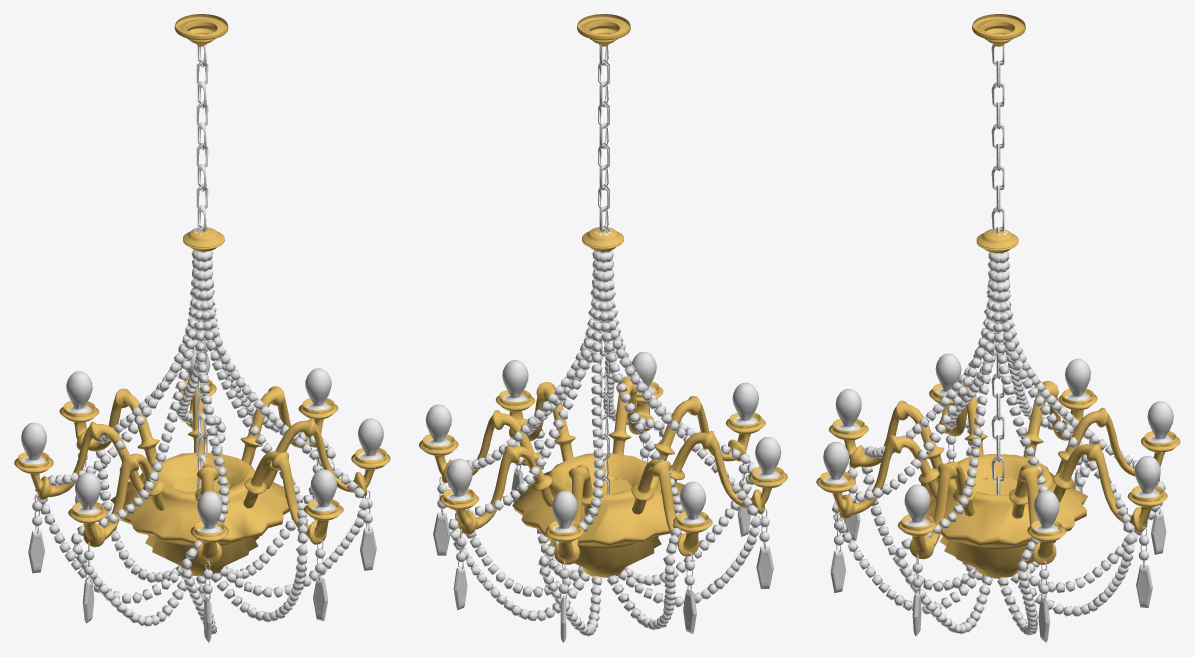
Rendered from şamdandamdanoptimopti.fbx.
3 renders of one model, left to right at view 1: azimuth 30°, elevation 25°; view 2: azimuth 150°, elevation 25°; view 3: azimuth 270°, elevation 25°, orthographic.
Parts seen in each view (by area): view 1: Plane.022, Cylinder.006, Cube.019, Cube.013, Cube.018, Cube.017, Cube.020, Circle.050, Cube.014, Cube.016, Cylinder.008, Cube.015 (+3 smaller); view 2: Plane.022, Cylinder.006, Cube.019, Cube.015, Cube.017, Cube.016, Cube.014, Cube.020, Circle.050, Cylinder.008, Cube.013, Cube.018 (+3 smaller); view 3: Plane.022, Cylinder.006, Cube.013, Cube.015, Cube.018, Cube.014, Cube.016, Cube.020, Circle.050, Cube.017, Cylinder.008, Cube.019 (+4 smaller).
Boxes of the visible parts, box(x1,y1,x2,y2) form: Plane.022: box(14, 349, 390, 564); Cylinder.006: box(110, 452, 289, 576); Cube.019: box(70, 227, 198, 626); Cube.013: box(199, 233, 369, 597); Cube.018: box(195, 231, 308, 622); Cube.017: box(35, 288, 198, 603); Cube.020: box(181, 229, 229, 634); Circle.050: box(196, 44, 208, 489); Cube.014: box(205, 233, 335, 579); Cube.016: box(95, 228, 209, 582); Cylinder.008: box(174, 14, 228, 46); Cube.015: box(176, 231, 225, 450); Plane.022: box(419, 352, 787, 564); Cylinder.006: box(512, 453, 684, 577); Cube.019: box(598, 233, 761, 607); Cube.015: box(448, 250, 598, 621); Cube.017: box(594, 231, 682, 630); Cube.016: box(538, 229, 604, 636); Cube.014: box(448, 281, 602, 597); Cube.020: box(603, 233, 755, 585); Circle.050: box(598, 45, 609, 493); Cylinder.008: box(577, 14, 630, 46); Cube.013: box(526, 229, 611, 579); Cube.018: box(603, 232, 665, 443); Plane.022: box(816, 353, 1180, 564); Cylinder.006: box(921, 454, 1087, 578); Cube.013: box(895, 229, 996, 634); Cube.015: box(993, 234, 1135, 616); Cube.018: box(831, 270, 993, 614); Cube.014: box(988, 231, 1048, 635); Cube.016: box(998, 234, 1165, 593); Cube.020: box(861, 229, 1005, 592); Circle.050: box(991, 44, 1004, 494); Cube.017: box(1002, 233, 1099, 576); Cylinder.008: box(972, 14, 1025, 46); Cube.019: box(945, 230, 1008, 577).
Bounding box in the file's own units: 1906 × 3339 × 1909.
